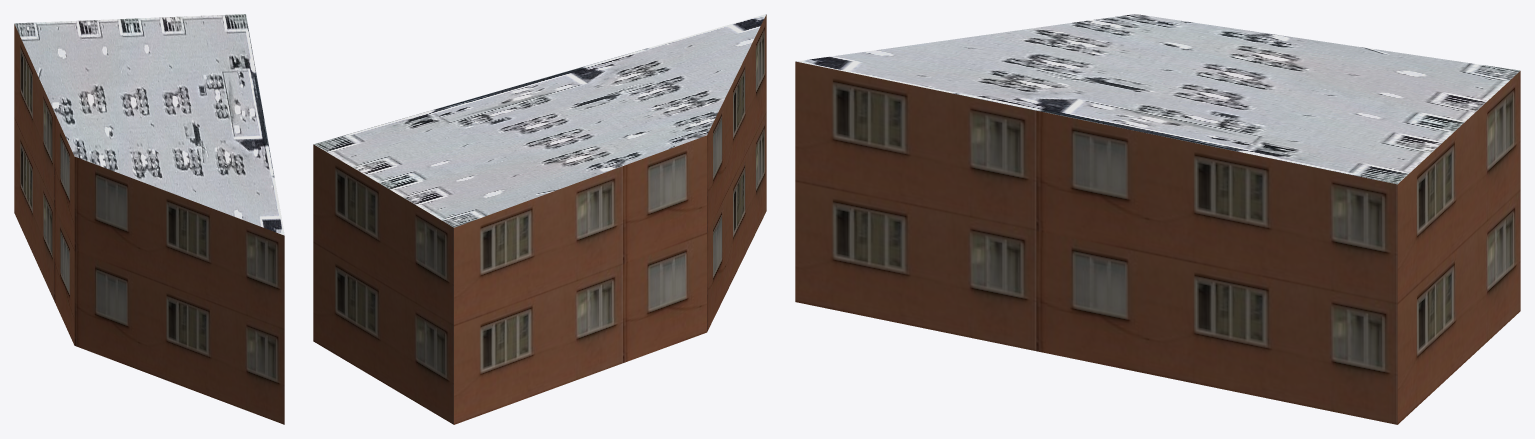
Rendered from ResTex__3653.fbx.
3 views of the same model, side by side, from view 1: azimuth 30°, elevation 25°; view 2: azimuth 150°, elevation 25°; view 3: azimuth 270°, elevation 25° (orthographic). The views are drawn at different scales.
Parts seen in each view (by area): view 1: CityEngineMaterial_20_m, CityEngineMaterial_4_m; view 2: CityEngineMaterial_20_m, CityEngineMaterial_4_m; view 3: CityEngineMaterial_20_m, CityEngineMaterial_4_m.
Part boxes in pixels (x1,y1,x2,y2): CityEngineMaterial_20_m: (14,24,284,424); CityEngineMaterial_4_m: (14,14,284,235); CityEngineMaterial_20_m: (313,14,766,424); CityEngineMaterial_4_m: (313,14,766,227); CityEngineMaterial_20_m: (795,61,1520,424); CityEngineMaterial_4_m: (795,14,1519,184).
Size of the model in its own units: 9.11 by 6 by 16.4.
Materials: 2 (2 with a texture image).
